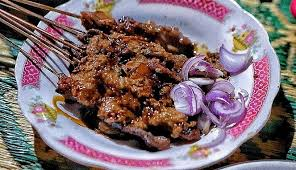sate: (59, 13, 234, 153)
